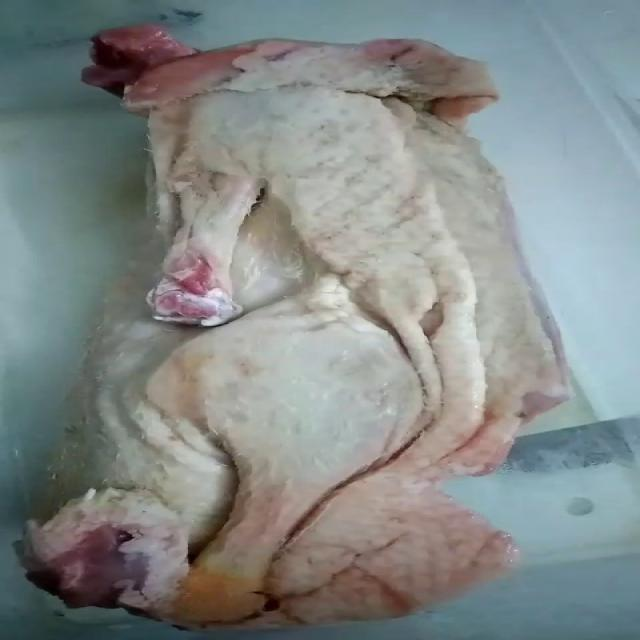chicken: (0, 24, 552, 640)
